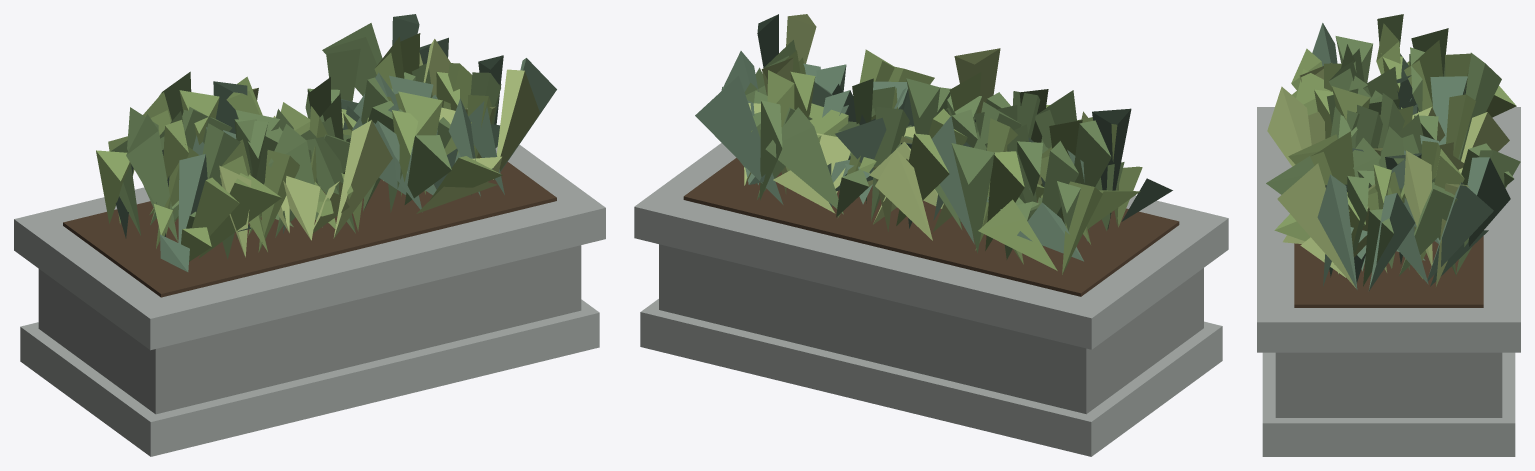
Rendered from planter.glb.
3 views of the same model, side by side, from view 1: azimuth 30°, elevation 25°; view 2: azimuth 150°, elevation 25°; view 3: azimuth 270°, elevation 25° (orthographic). The views are drawn at different scales.
Parts seen in each view (by area): view 1: planter; view 2: planter; view 3: planter.
Part boxes in pixels (left/top/right/bottom): planter: left=14, top=14, right=605, bottom=456; planter: left=634, top=14, right=1228, bottom=456; planter: left=1257, top=14, right=1520, bottom=456.
Bounding box in the file's own units: 1.37 × 0.7939 × 0.71.
